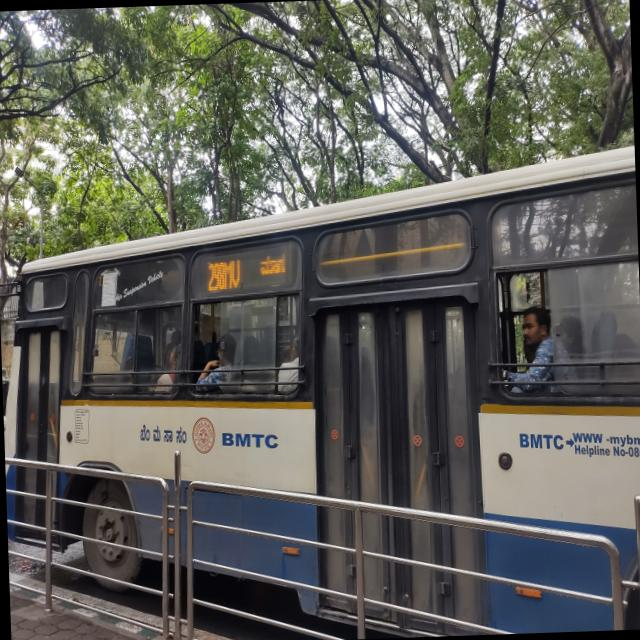bus: (0, 136, 640, 640)
display: (192, 242, 296, 298)
dnumber: (204, 256, 248, 294)
